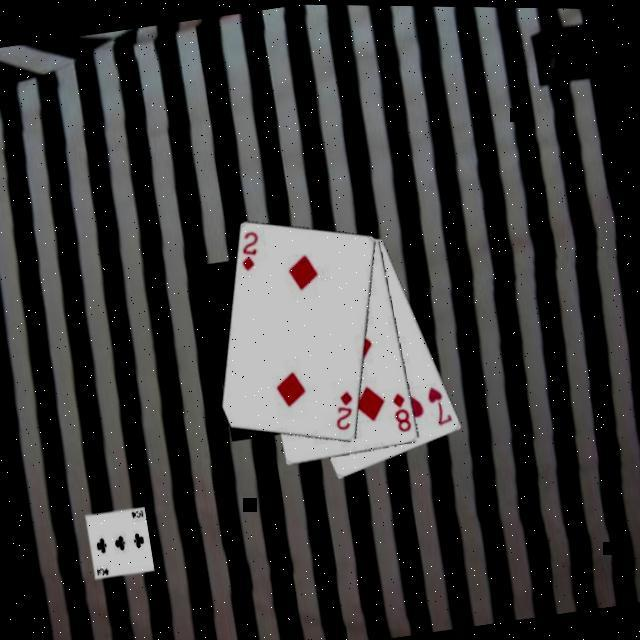2D: (233, 228, 266, 274), (328, 388, 359, 434)
7H: (422, 380, 455, 430)
8D: (388, 388, 414, 436)
